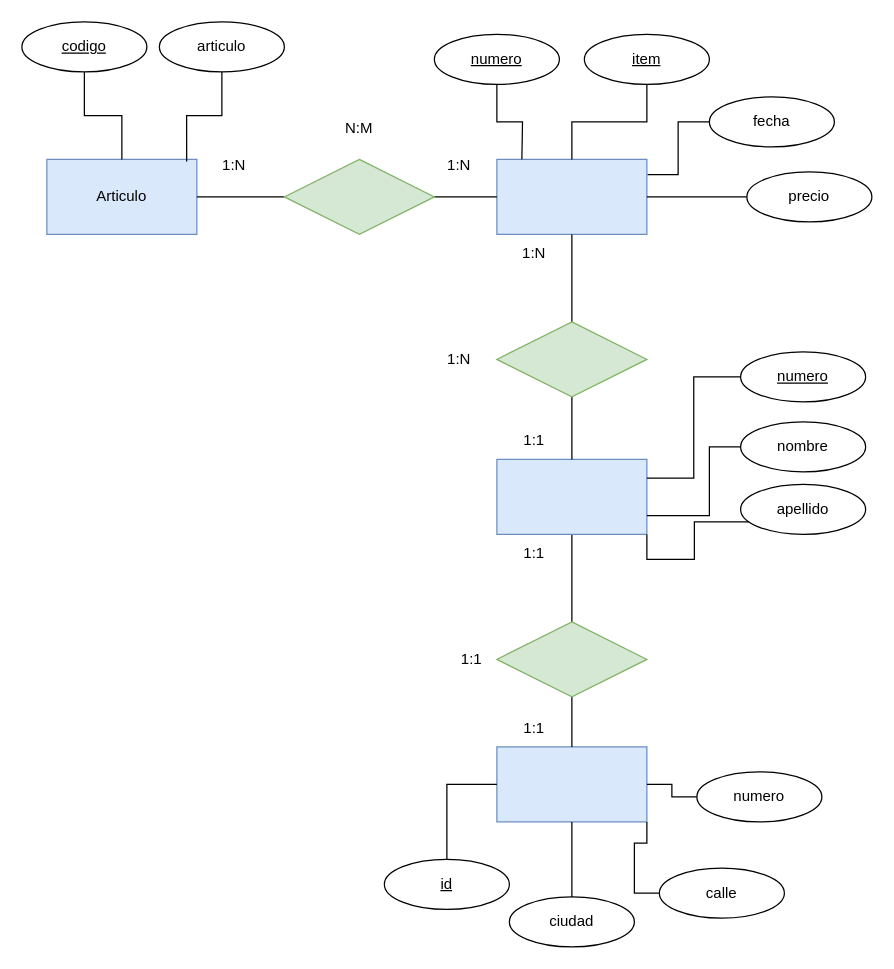
Image size: 894x969. Some labels were removed from this diagram. The shapes that lost their labels are listed below. From the top down, each one's centre as x and y in pixels, then its label:
At [571,196]: "Factura".
At [571,496]: "Cliente".
At [571,784]: "Direccion".
